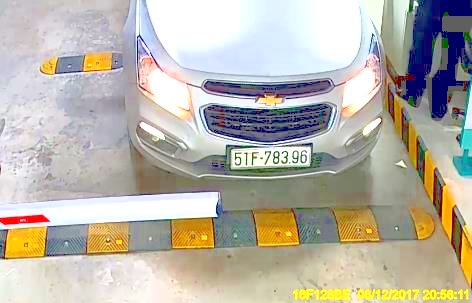plate: (229, 145, 313, 169)
